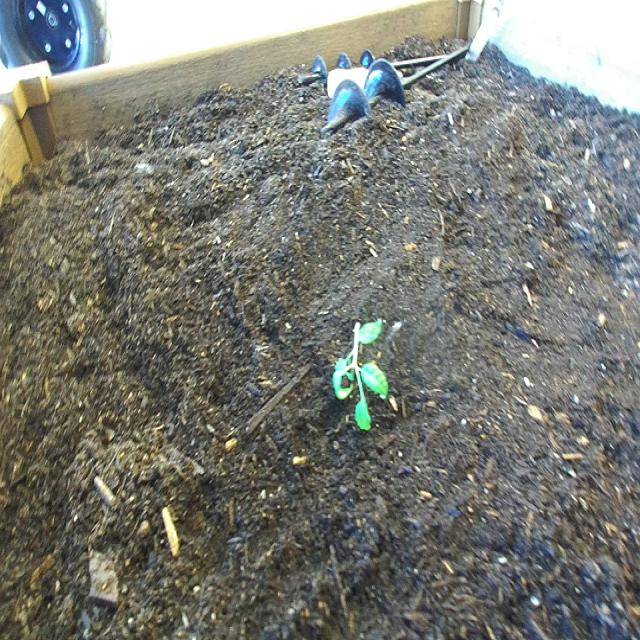Healthy: (328, 311, 392, 440)
